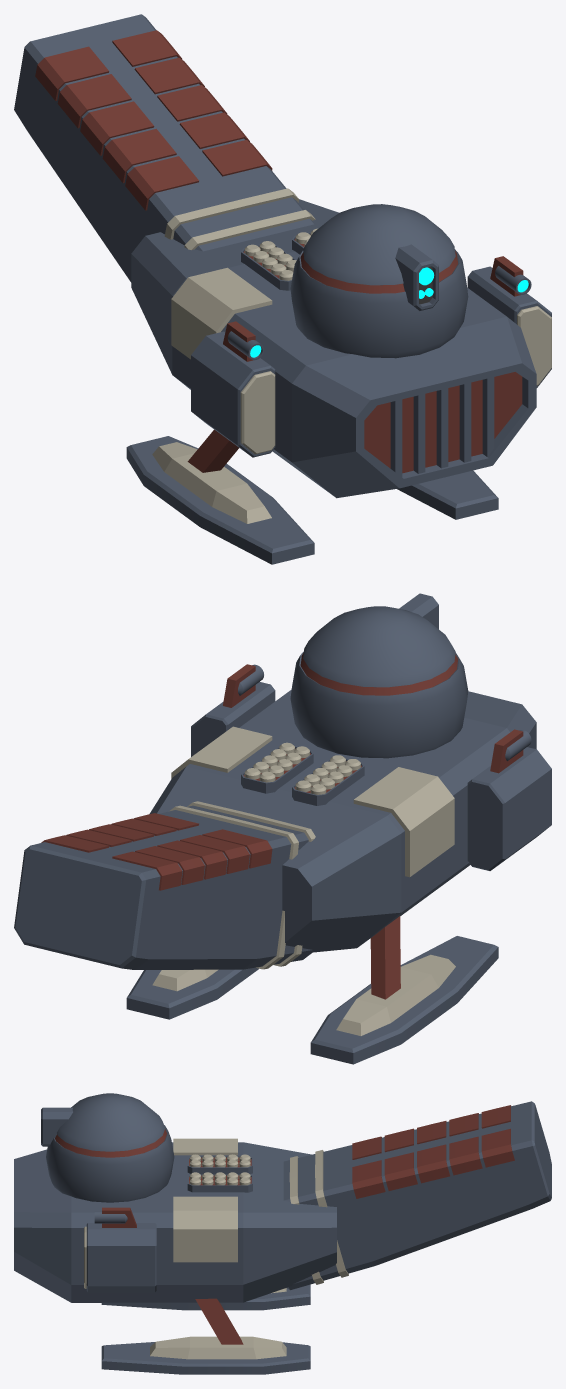
The model's file is DroneBombardier.fbx.
3 views of the same model, one above another, from view 1: azimuth 30°, elevation 25°; view 2: azimuth 150°, elevation 25°; view 3: azimuth 270°, elevation 25° (orthographic). The views are drawn at different scales.
Parts seen in each view (by area): view 1: pCube264, polySurface8, pasted__pSphere14, pCube265, pCube277, pCube272, pCube275, pCube263, polySurface9, polySurface13, polySurface12, polySurface10 (+14 smaller); view 2: pCube264, polySurface8, pasted__pSphere14, pCube265, pCube277, pCube272, pCube263, pCube275, pCube271, pCube274, polySurface10, polySurface9 (+13 smaller); view 3: pCube264, polySurface8, pasted__pSphere14, pCube263, pCube275, pCube271, pCube265, pCube272, pCube273, polySurface5, polySurface2, polySurface7 (+12 smaller).
Boxes of the visible parts, x1=… form: pCube264: x1=131, y1=199, x2=536, y2=498; polySurface8: x1=14, y1=14, x2=315, y2=282; pasted__pSphere14: x1=290, y1=204, x2=468, y2=358; pCube265: x1=126, y1=436, x2=314, y2=564; pCube277: x1=191, y1=331, x2=275, y2=457; pCube272: x1=171, y1=267, x2=272, y2=359; pCube275: x1=467, y1=266, x2=551, y2=387; pCube263: x1=397, y1=470, x2=498, y2=519; polySurface9: x1=125, y1=156, x2=198, y2=210; polySurface13: x1=102, y1=128, x2=176, y2=183; polySurface12: x1=80, y1=101, x2=154, y2=155; polySurface10: x1=35, y1=46, x2=109, y2=100; pCube264: x1=149, y1=689, x2=536, y2=952; polySurface8: x1=14, y1=801, x2=315, y2=969; pasted__pSphere14: x1=290, y1=606, x2=468, y2=758; pCube265: x1=310, y1=936, x2=498, y2=1064; pCube277: x1=467, y1=747, x2=551, y2=870; pCube272: x1=353, y1=767, x2=454, y2=877; pCube263: x1=126, y1=967, x2=258, y2=1019; pCube275: x1=191, y1=682, x2=275, y2=756; pCube271: x1=171, y1=726, x2=272, y2=778; pCube274: x1=370, y1=916, x2=400, y2=999; polySurface10: x1=112, y1=851, x2=182, y2=890; polySurface9: x1=202, y1=829, x2=272, y2=868; pCube264: x1=14, y1=1142, x2=336, y2=1302; polySurface8: x1=283, y1=1101, x2=551, y2=1290; pasted__pSphere14: x1=46, y1=1093, x2=174, y2=1202; pCube263: x1=101, y1=1336, x2=310, y2=1374; pCube275: x1=84, y1=1223, x2=156, y2=1292; pCube271: x1=173, y1=1196, x2=237, y2=1262; pCube265: x1=101, y1=1284, x2=310, y2=1310; pCube272: x1=173, y1=1138, x2=237, y2=1155; pCube273: x1=195, y1=1298, x2=243, y2=1344; polySurface5: x1=449, y1=1136, x2=482, y2=1175; polySurface2: x1=352, y1=1160, x2=385, y2=1198; polySurface7: x1=384, y1=1152, x2=417, y2=1190.
Size of the model in its own units: 13.67 by 13.35 by 28.2.
